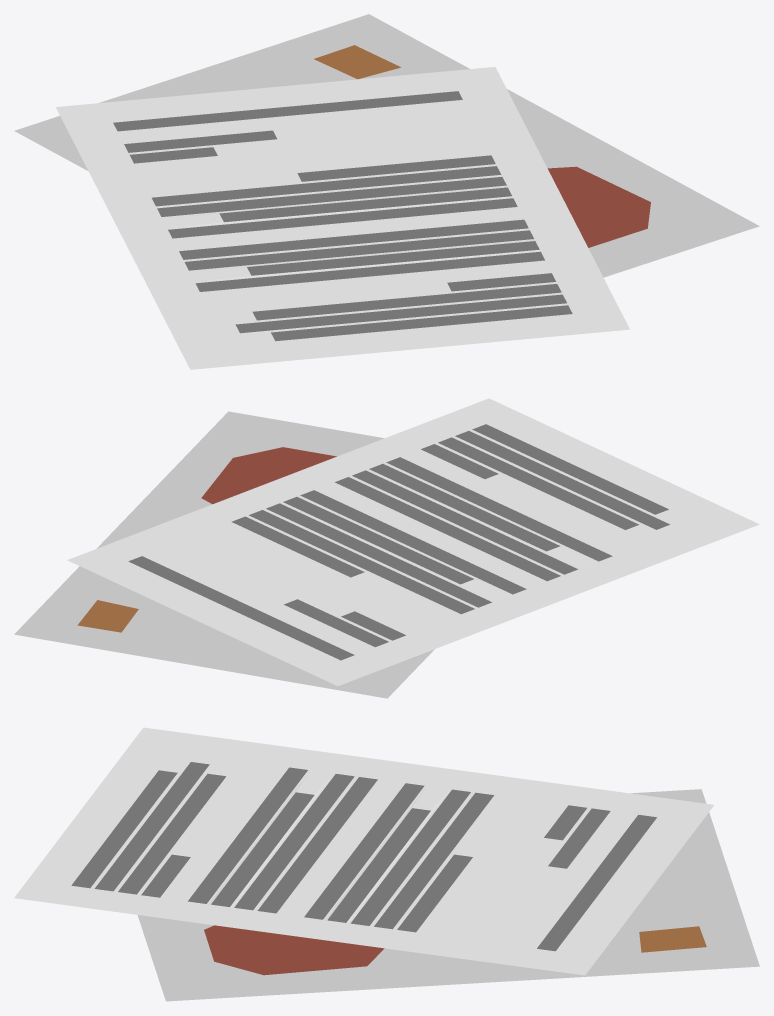
Rendered from Paper.fbx.
The picture shows the model from 3 angles, top to bottom: view 1: azimuth 30°, elevation 25°; view 2: azimuth 150°, elevation 25°; view 3: azimuth 270°, elevation 25°; orthographic projection. The views are drawn at different scales.
Visible parts, largest first — view 1: Paper; view 2: Paper; view 3: Paper.
Boxes of the visible parts, bbox=[...] form: Paper: bbox=[14, 14, 759, 369]; Paper: bbox=[14, 398, 759, 698]; Paper: bbox=[14, 727, 759, 1001].
Bounding box in the file's own units: 30.38 × 0.3655 × 35.81.
